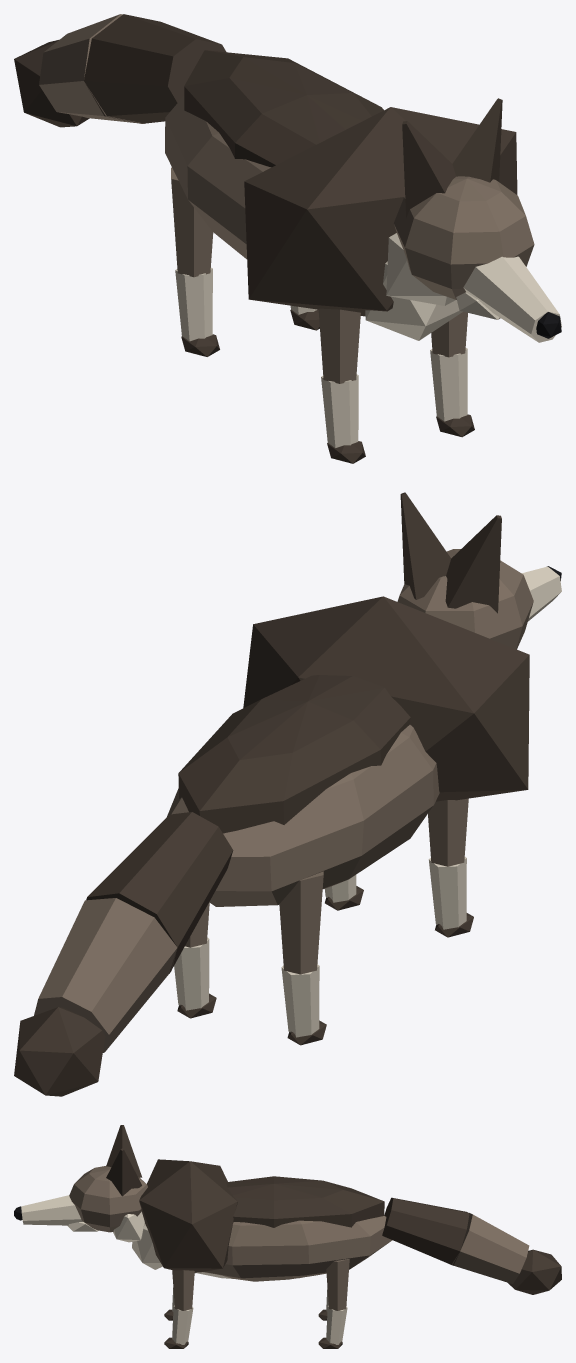
The model's file is wolf.glb.
3 views of the same model, one above another, from view 1: azimuth 30°, elevation 25°; view 2: azimuth 150°, elevation 25°; view 3: azimuth 270°, elevation 25° (orthographic). The views are drawn at different scales.
Parts seen in each view (by area): view 1: body, head, tail, leg_fr, leg_br, leg_fl, ear_r, ear_l, leg_bl; view 2: body, tail, head, leg_br, leg_fr, ear_r, ear_l, leg_bl, leg_fl; view 3: body, tail, head, leg_bl, leg_fl, ear_l, ear_r.
Part boxes in pixels (<box>): body: <box>165,50,517,340</box>; head: <box>386,176,561,342</box>; tail: <box>14,14,226,127</box>; leg_fr: <box>318,308,365,463</box>; leg_br: <box>171,167,219,356</box>; leg_fl: <box>430,311,474,437</box>; ear_r: <box>402,121,455,218</box>; ear_l: <box>452,98,502,182</box>; leg_bl: <box>290,305,319,330</box>; body: <box>167,596,529,906</box>; tail: <box>14,812,233,1096</box>; head: <box>397,549,561,649</box>; leg_br: <box>279,871,326,1045</box>; leg_fr: <box>428,798,473,937</box>; ear_r: <box>445,515,501,613</box>; ear_l: <box>400,492,451,599</box>; leg_bl: <box>174,902,216,1018</box>; leg_fl: <box>324,875,363,910</box>; body: <box>132,1159,392,1281</box>; tail: <box>382,1197,561,1294</box>; head: <box>14,1166,147,1242</box>; leg_bl: <box>318,1259,349,1348</box>; leg_fl: <box>164,1270,194,1348</box>; ear_l: <box>106,1148,141,1196</box>; ear_r: <box>106,1125,142,1177</box>.
Bounding box in the file's own units: 0.941 × 1.25 × 3.13.
